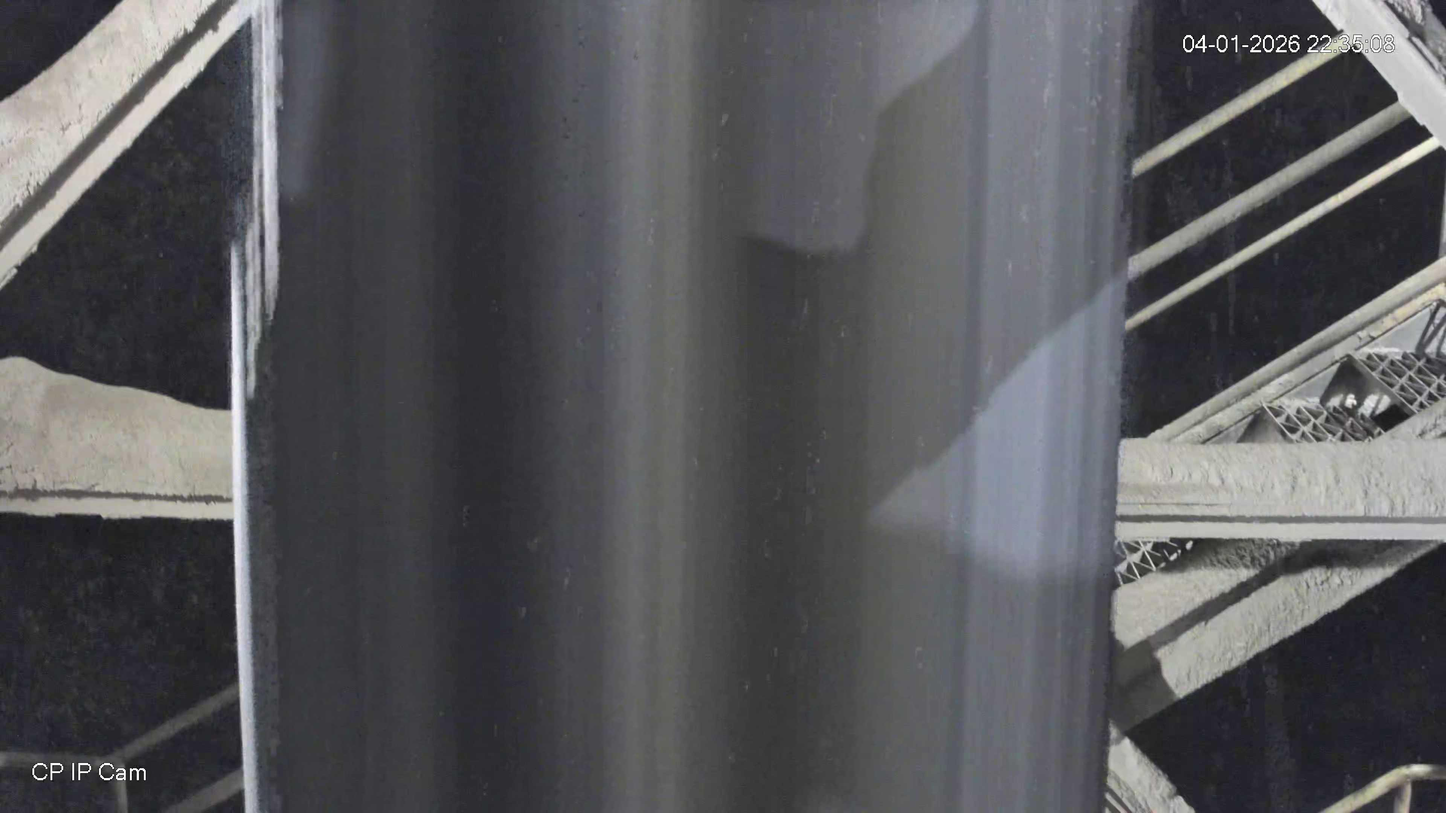belt_roi: (230, 0, 1136, 813)
